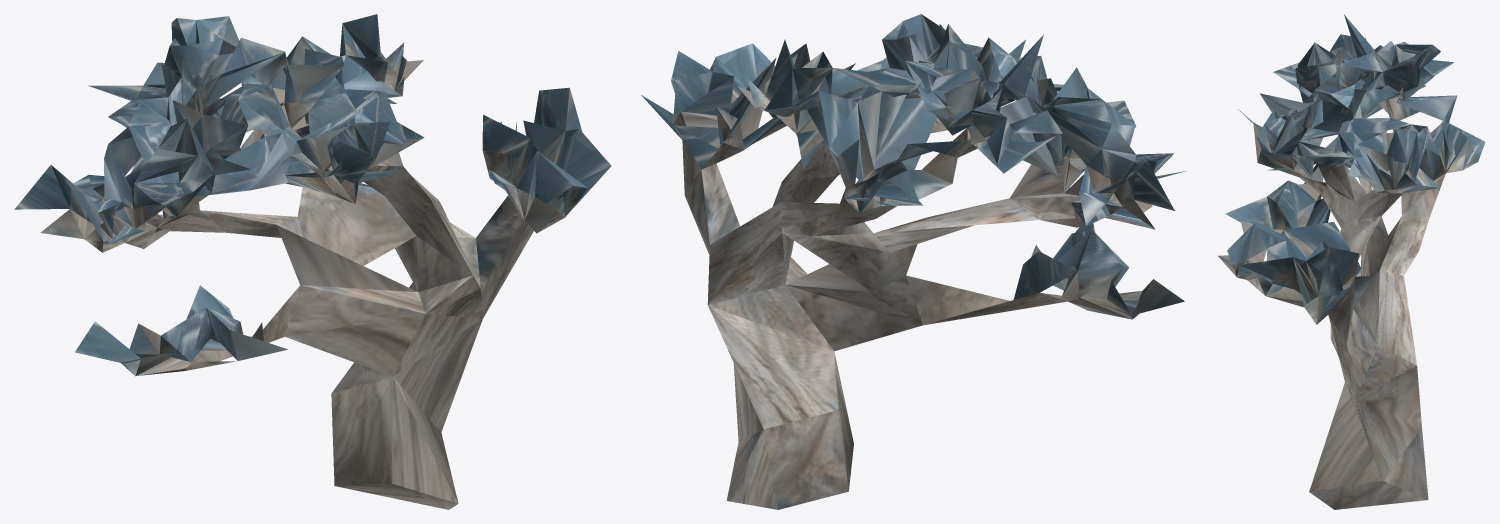
The model's file is fc_windpruned_paddleleaf_tree_lod1.glb.
3 renders of one model, left to right at view 1: azimuth 30°, elevation 25°; view 2: azimuth 150°, elevation 25°; view 3: azimuth 270°, elevation 25°, orthographic. The views are drawn at different scales.
Parts seen in each view (by area): view 1: mesh; view 2: mesh; view 3: mesh.
Part boxes in pixels (x1=…): mesh: x1=14, y1=14, x2=611, y2=509; mesh: x1=641, y1=14, x2=1186, y2=509; mesh: x1=1218, y1=14, x2=1485, y2=509.
Size of the model in its own units: 1.71 by 1.52 by 0.9302.
1 material, 1 textured.
